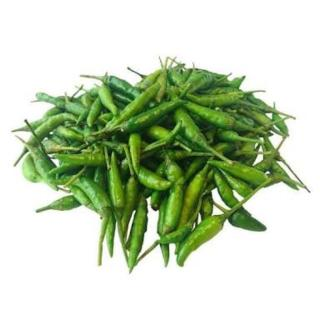Cabai Hijau: (15, 46, 305, 267)
